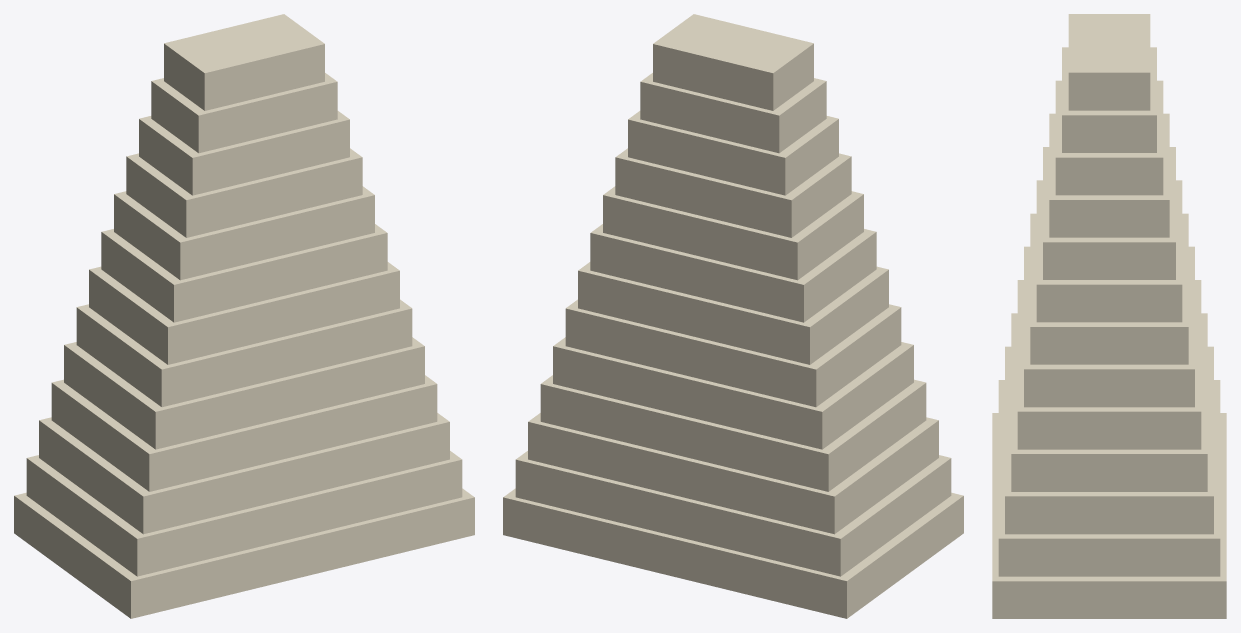
File: place-ranganathaswamy-temple-srirangam.glb
3 renders of one model, left to right at view 1: azimuth 30°, elevation 25°; view 2: azimuth 150°, elevation 25°; view 3: azimuth 270°, elevation 25°, orthographic.
Visible parts, largest first — view 1: place-ranganathaswamy-temple-srirangam; view 2: place-ranganathaswamy-temple-srirangam; view 3: place-ranganathaswamy-temple-srirangam.
Part boxes in pixels (<box>): place-ranganathaswamy-temple-srirangam: <box>14,14,474,618</box>; place-ranganathaswamy-temple-srirangam: <box>503,14,963,618</box>; place-ranganathaswamy-temple-srirangam: <box>992,14,1226,618</box>.
Bounding box in the file's own units: 52.8 × 72 × 31.1.
